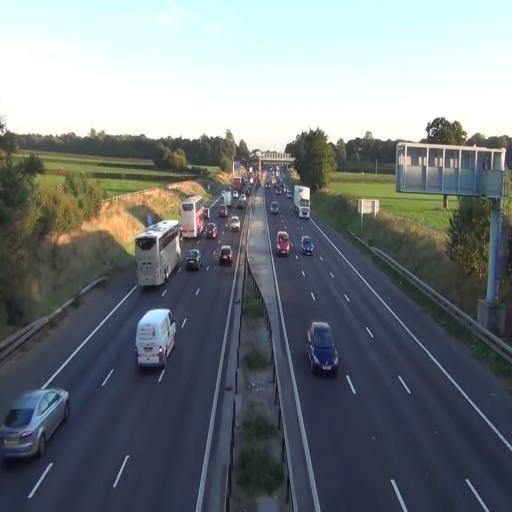vehicle: (0, 386, 70, 460), (134, 219, 182, 289), (135, 308, 177, 370), (307, 320, 339, 376), (179, 196, 208, 240), (180, 196, 208, 241), (294, 185, 311, 219), (295, 185, 311, 219), (276, 228, 291, 255), (185, 250, 201, 272), (218, 245, 233, 266), (301, 234, 314, 255), (228, 215, 240, 233), (206, 223, 218, 240)
